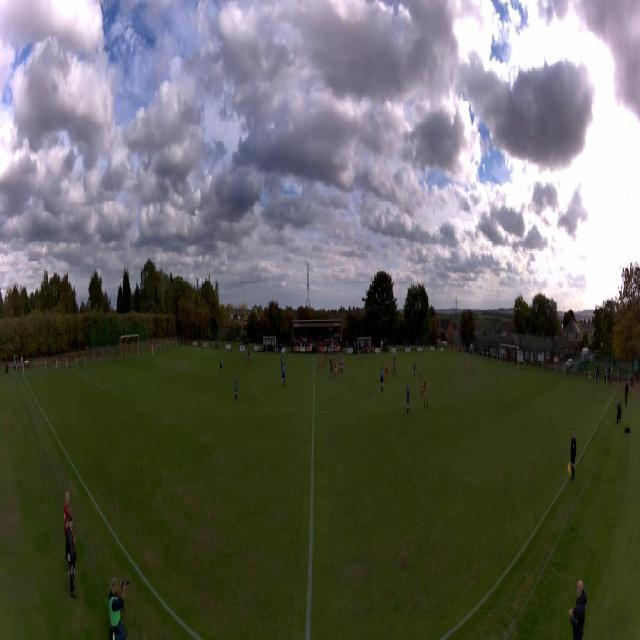player: (406, 385, 412, 417), (424, 381, 429, 409), (384, 360, 389, 382), (333, 359, 338, 381), (282, 362, 286, 388), (329, 357, 334, 377), (317, 353, 323, 369), (420, 375, 424, 397), (235, 375, 238, 403), (412, 358, 416, 379), (220, 356, 224, 377), (380, 366, 383, 393), (393, 356, 397, 376), (341, 355, 345, 374), (338, 356, 342, 375), (359, 351, 363, 367), (322, 351, 326, 366), (467, 357, 470, 374), (281, 355, 284, 369), (244, 353, 247, 365), (248, 349, 250, 364), (151, 345, 153, 357)
